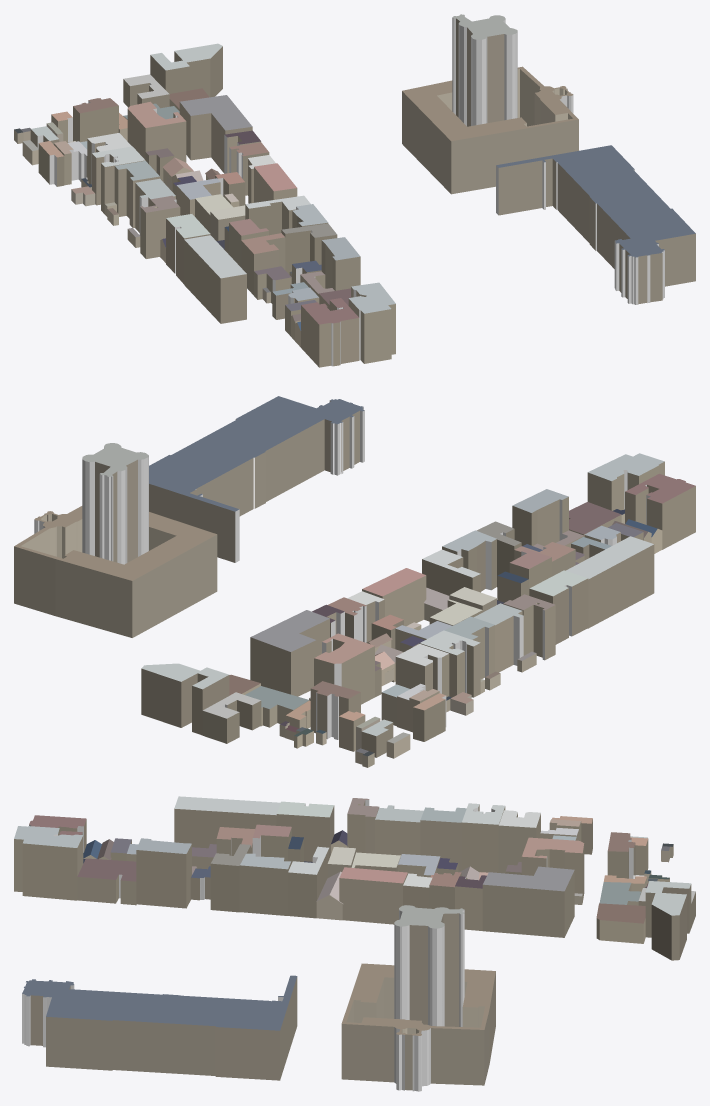
3 views of the same model, one above another, from view 1: azimuth 30°, elevation 25°; view 2: azimuth 150°, elevation 25°; view 3: azimuth 270°, elevation 25° (orthographic). The views are drawn at different scales.
Parts seen in each view (by area): view 1: tuile; view 2: tuile; view 3: tuile.
Boxes of the visible parts, x1=… form: tuile: x1=14, y1=14, x2=695, y2=367; tuile: x1=14, y1=396, x2=695, y2=767; tuile: x1=14, y1=796, x2=695, y2=1091.
Size of the model in its own units: 218 by 58.73 by 267.
